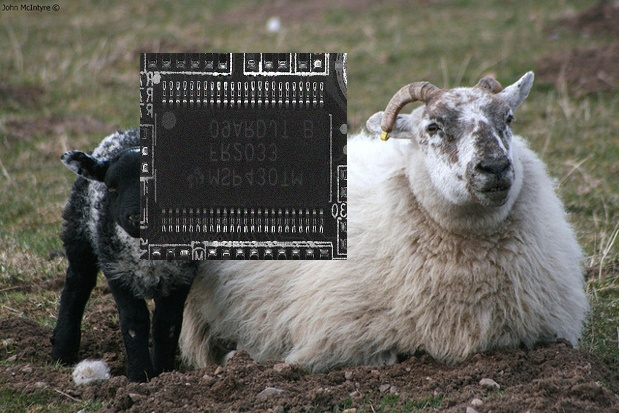PIN: (155, 198, 331, 239), (154, 77, 332, 117)
sheep: (180, 67, 588, 357), (51, 130, 212, 379)
